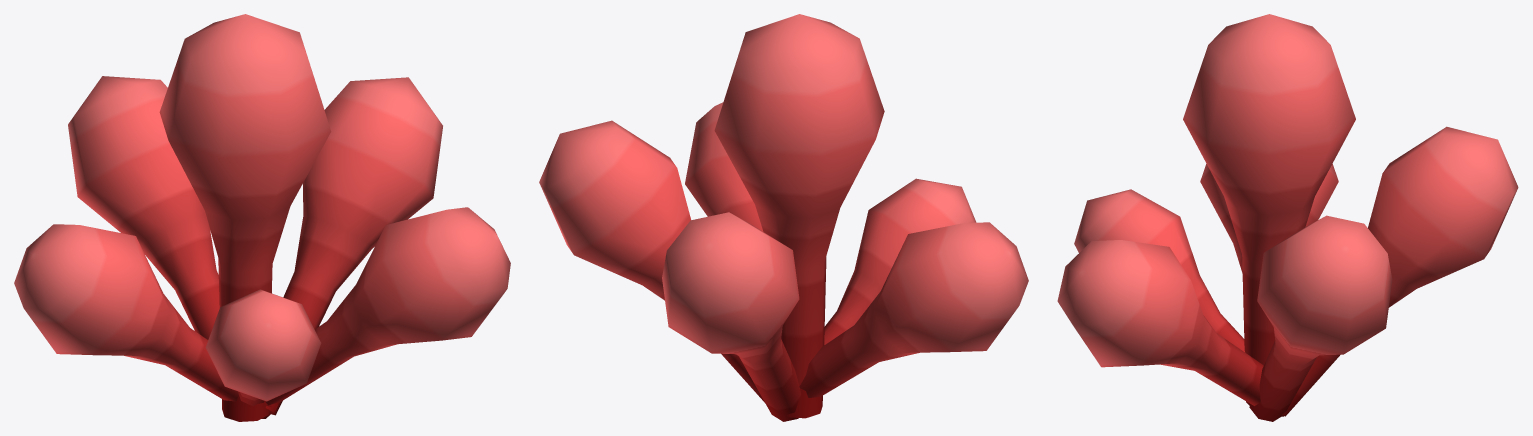
Rendered from plant.fbx.
3 views of the same model, side by side, from view 1: azimuth 30°, elevation 25°; view 2: azimuth 150°, elevation 25°; view 3: azimuth 270°, elevation 25° (orthographic). The views are drawn at different scales.
Visible parts, largest first — view 1: plant; view 2: plant; view 3: plant.
Part boxes in pixels (x1=…): plant: x1=14, y1=14, x2=510, y2=421; plant: x1=539, y1=14, x2=1028, y2=421; plant: x1=1057, y1=14, x2=1518, y2=421.
Size of the model in its own units: 21.33 by 18.74 by 19.71.
